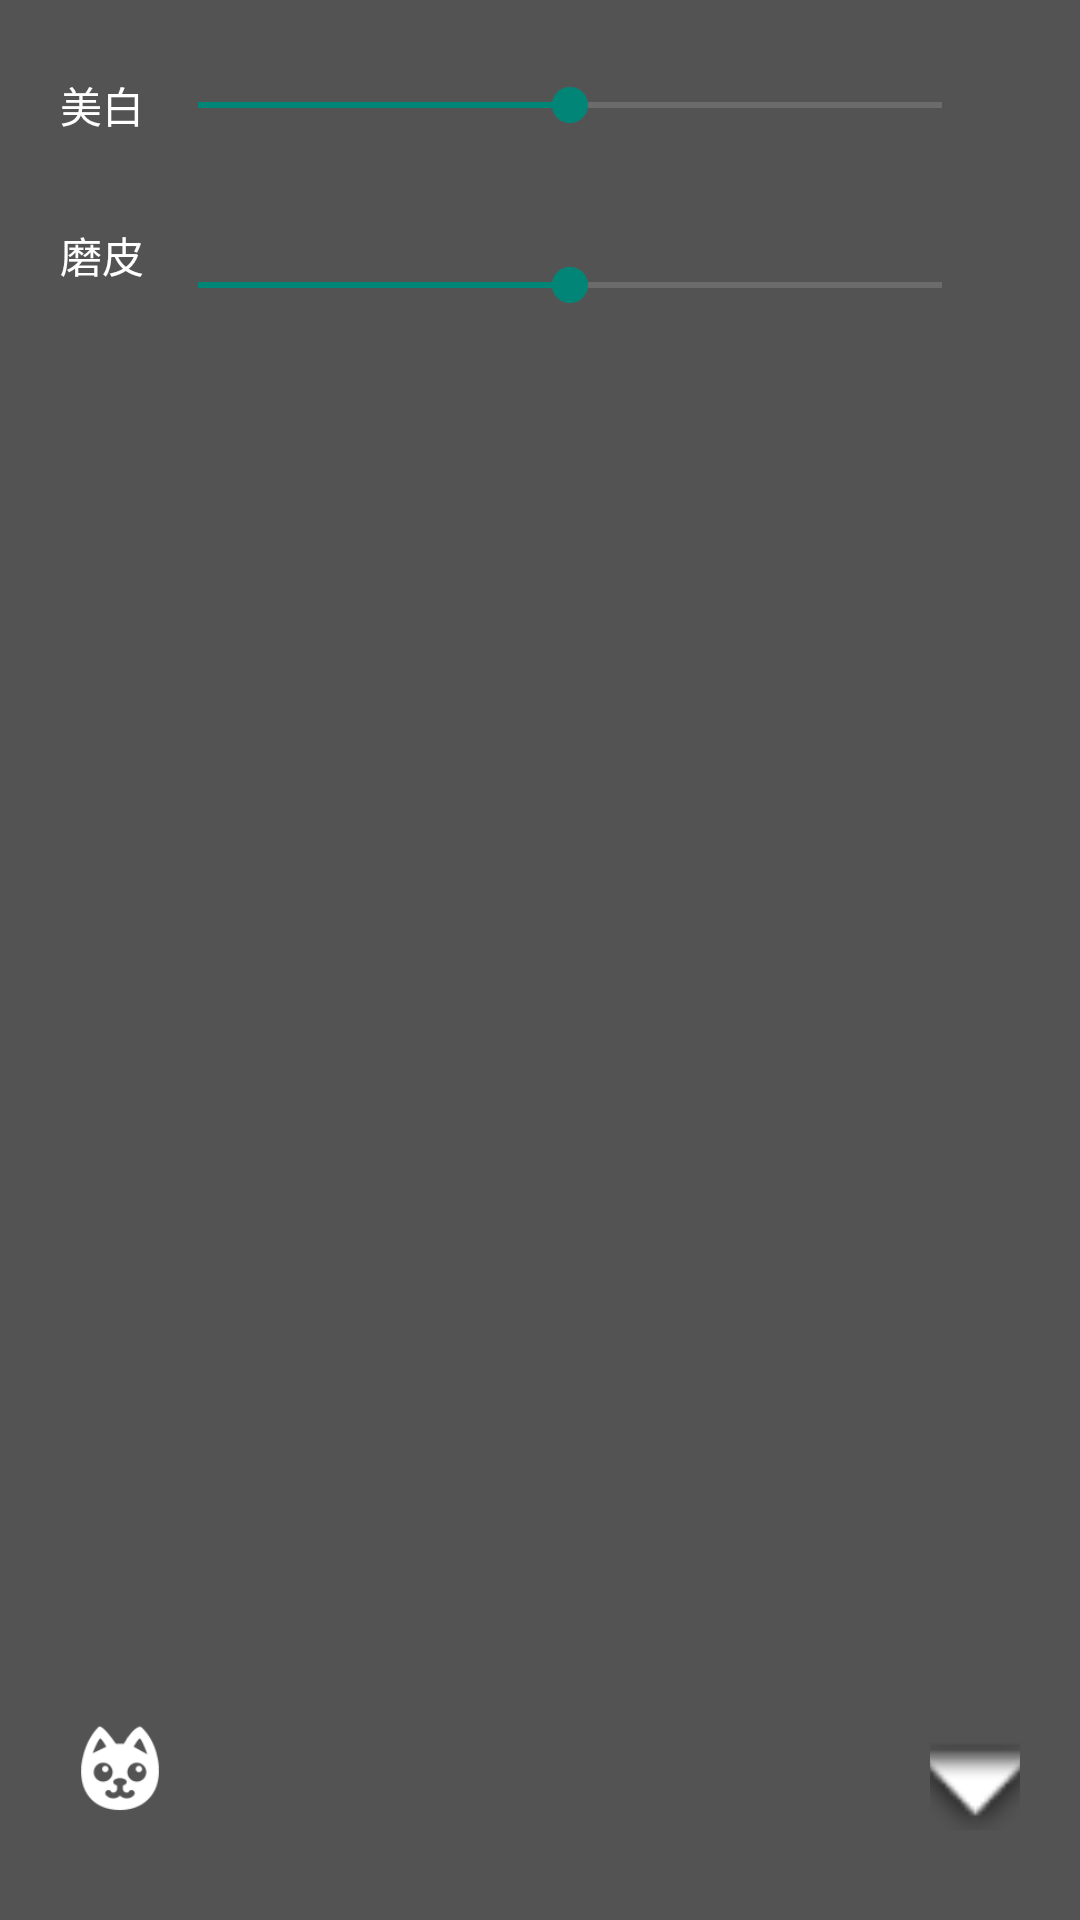

Screen size 1080 x 1920. Icon name, then its box in pixels as (x1, y1, x2, y2):
arrow down float: (930, 1753, 1020, 1815)
sticker: (81, 1726, 159, 1810)
